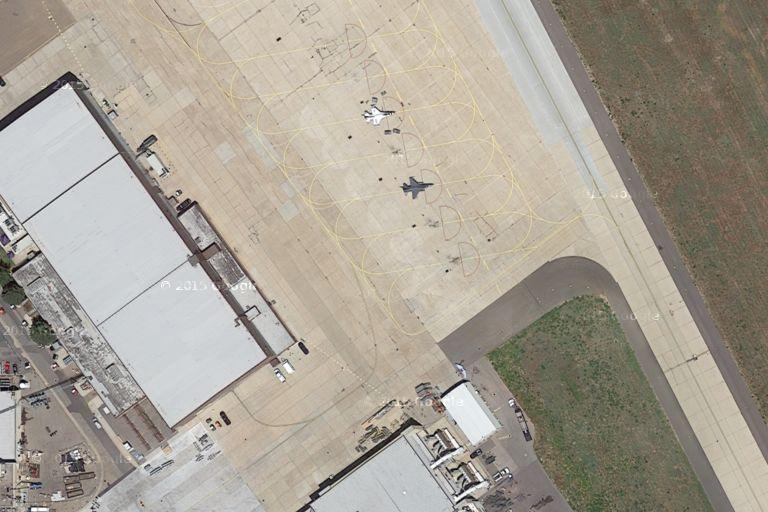F-16: (396, 173, 440, 200), (359, 104, 400, 129)
